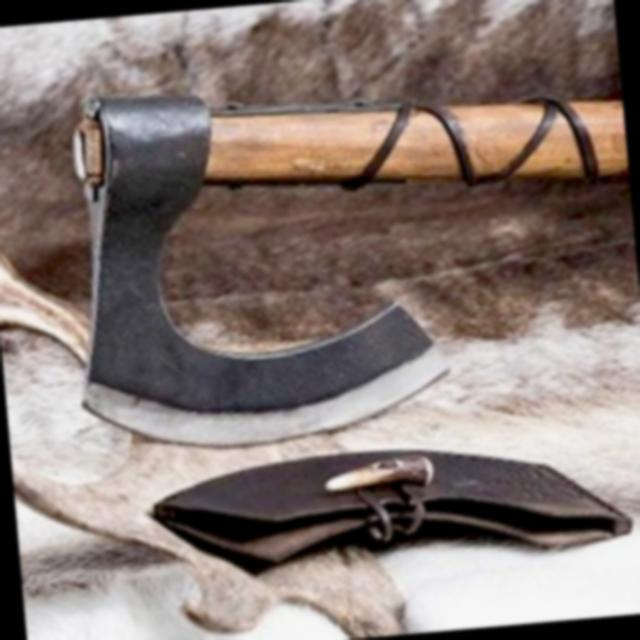ax: (27, 42, 640, 471)
